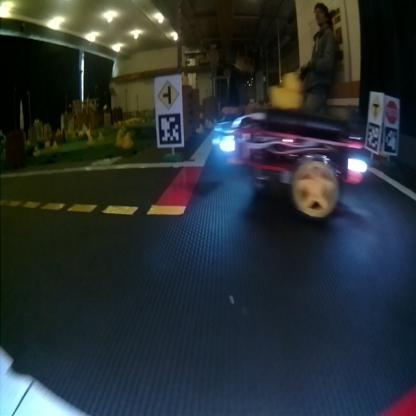Duckie: (272, 73, 302, 107), (122, 132, 134, 148)
Duckiebot: (236, 112, 366, 216)
Intersection sign: (156, 77, 182, 108), (369, 92, 384, 119)
QR code: (158, 112, 182, 146), (366, 122, 380, 149), (386, 130, 398, 152)
Stop sign: (386, 98, 400, 122)
